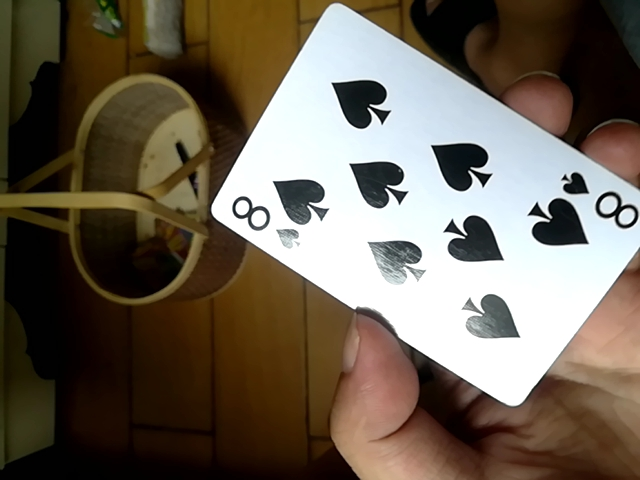ht 8: (210, 0, 639, 410)
